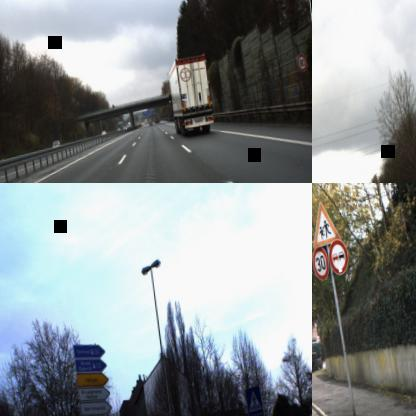SCHOOL CROSSING: (312, 198, 341, 248)
no overtaking (trucks): (326, 236, 350, 274)
speed limit 30: (312, 245, 330, 281)
speed limit 80: (295, 52, 307, 72)
